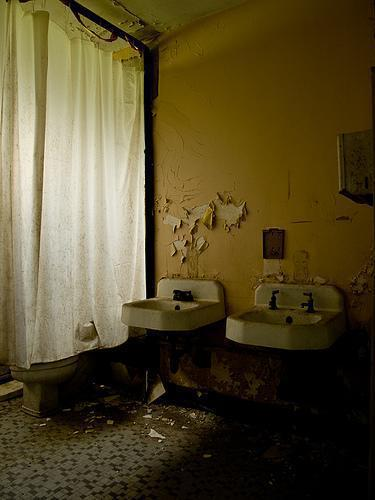Lavamanos: (229, 271, 353, 354), (126, 272, 223, 338)
